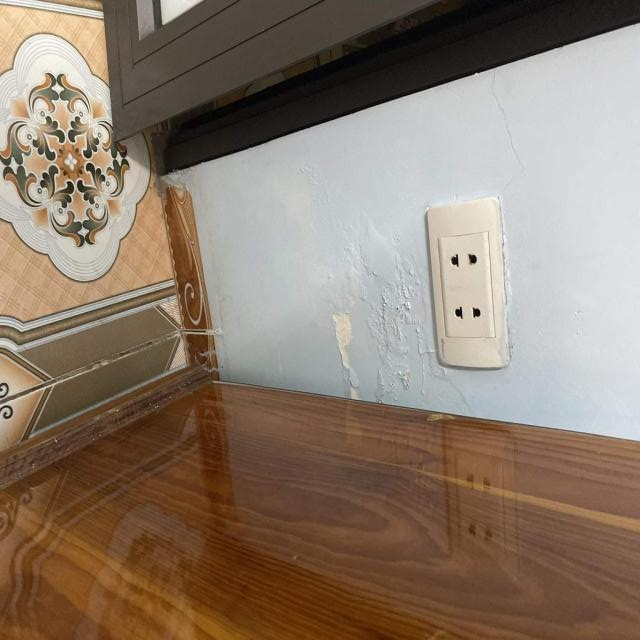outlet: (426, 195, 512, 369)
